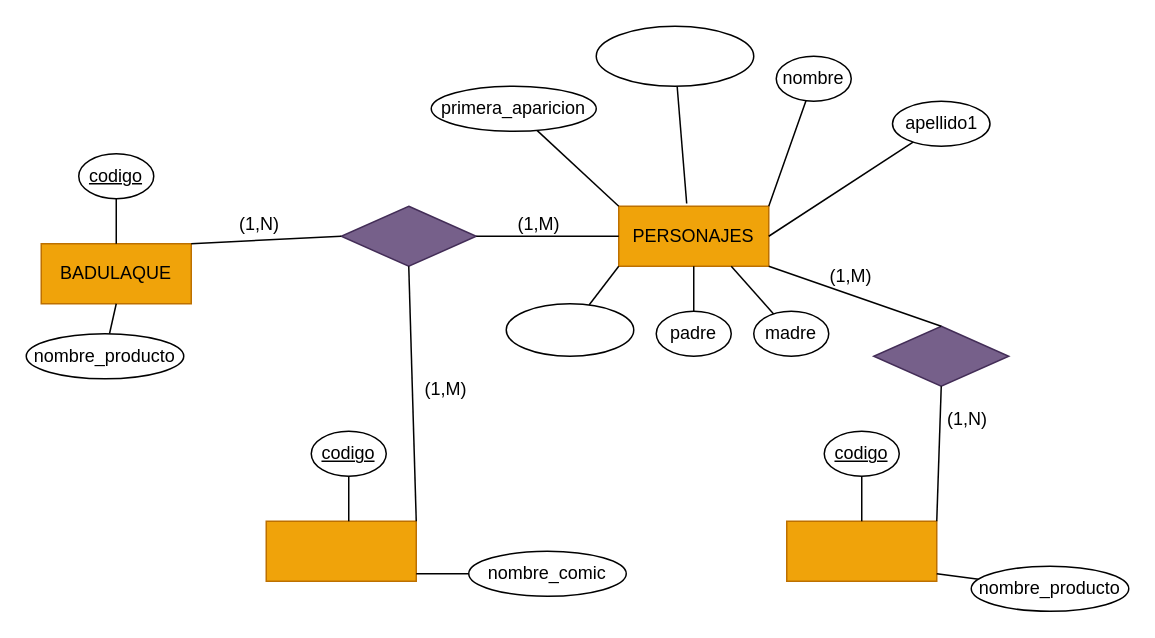
This 1155x638 diagram has some shape labels left out. Here are the shapes that lost their labels. From the top down, the centre of each, then its label:
At (674,55): "codigo_personaje".
At (408,235): "compra".
At (569,329): "actor_doblaje".
At (940,355): "beben".
At (340,550): "TIENDA_COMICS".
At (861,550): "BAR_MOE".
